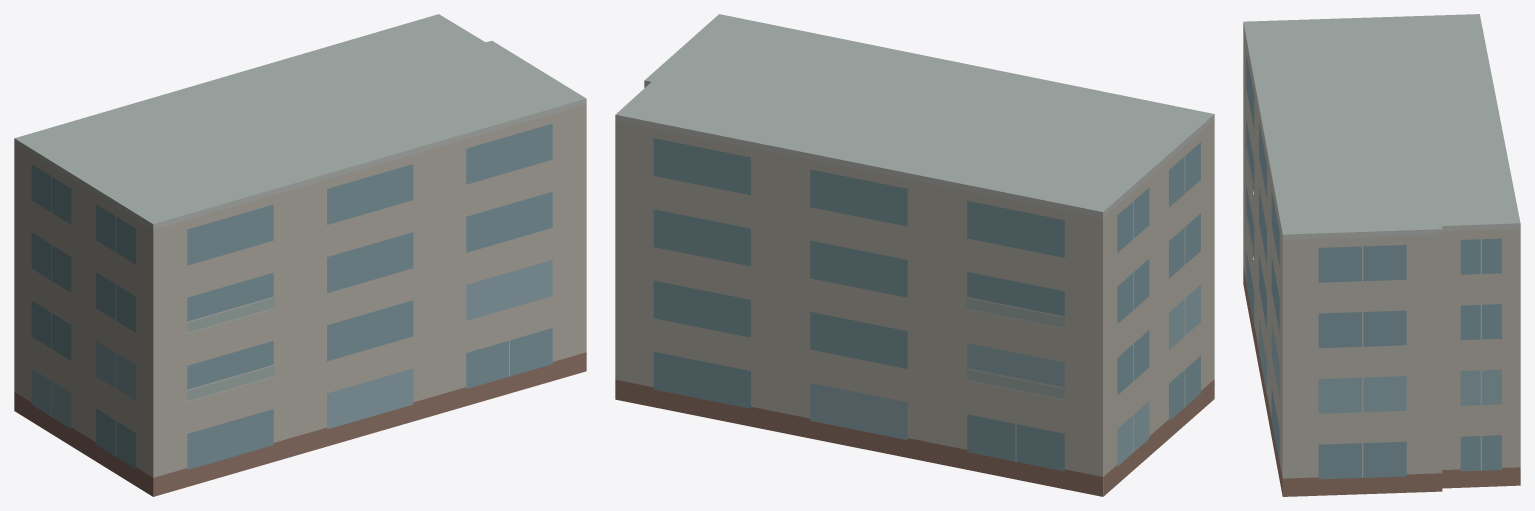
File: survey-upis-32562575.glb
3 renders of one model, left to right at view 1: azimuth 30°, elevation 25°; view 2: azimuth 150°, elevation 25°; view 3: azimuth 270°, elevation 25°, orthographic. The views are drawn at different scales.
Parts seen in each view (by area): view 1: survey-upis-32562575.tmp; view 2: survey-upis-32562575.tmp; view 3: survey-upis-32562575.tmp.
Boxes of the visible parts, bbox=[...] form: survey-upis-32562575.tmp: bbox=[14, 14, 586, 496]; survey-upis-32562575.tmp: bbox=[615, 14, 1214, 496]; survey-upis-32562575.tmp: bbox=[1243, 14, 1520, 496].
Bounding box in the file's own units: 21.11 × 11.7 × 11.22.
